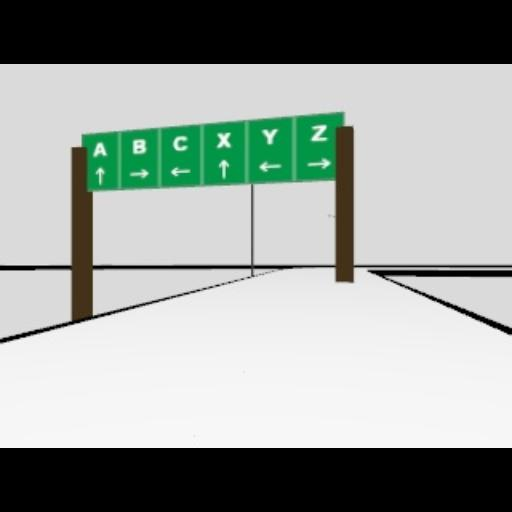A: (92, 142, 108, 158)
B: (131, 138, 145, 154)
C: (173, 134, 187, 152)
Left: (256, 160, 284, 172), (170, 166, 190, 176)
Right: (305, 156, 331, 170), (128, 168, 150, 178)
Straight: (218, 158, 228, 180), (96, 166, 104, 186)
X: (216, 131, 230, 147)
Y: (261, 128, 277, 144)
Z: (308, 123, 328, 141)
